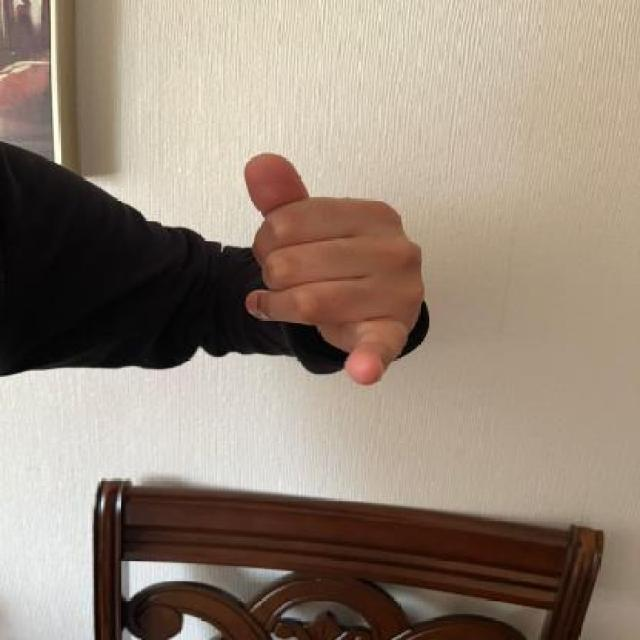Z: (238, 155, 424, 393)
